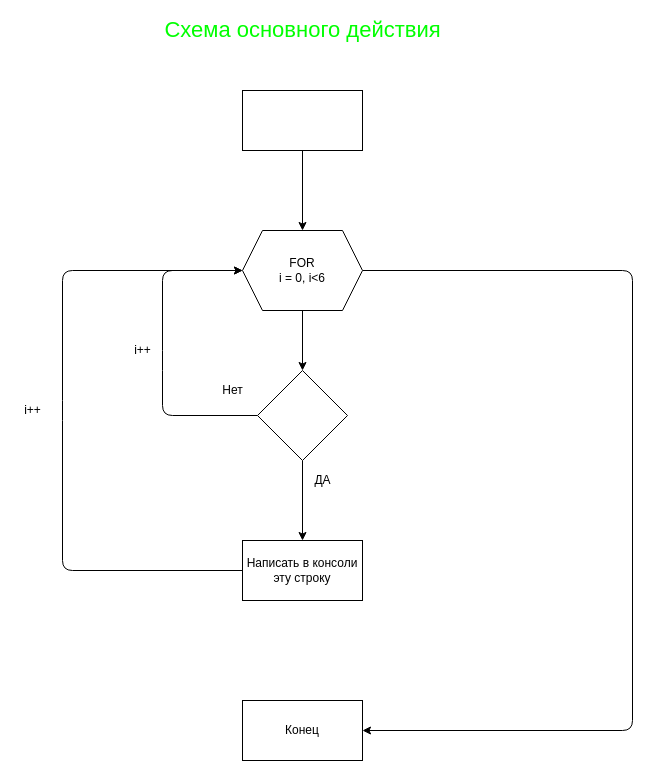
This 658x778 diagram has some shape labels left out. Each missing label, with the centre of its shape:
"IF Длинна строки <=3" belongs at (302,415).
"Start" belongs at (302,120).
